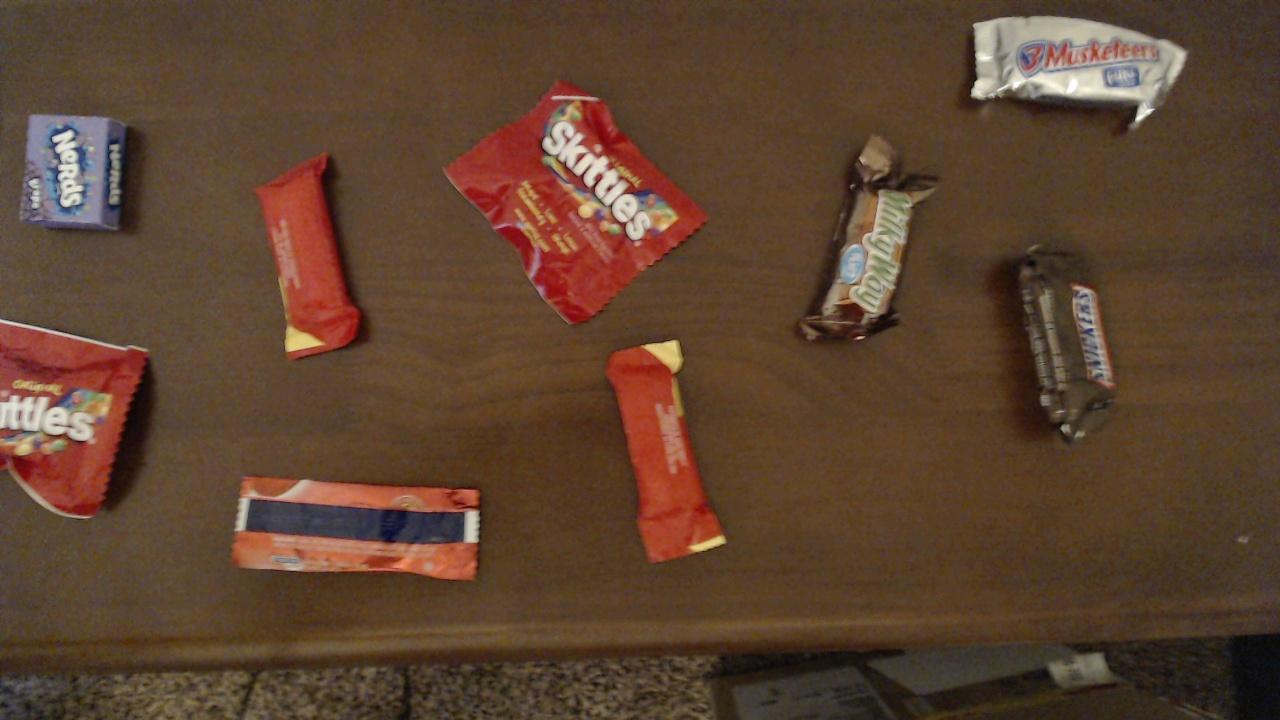Snickers: (1016, 245, 1119, 445)
airheads: (232, 476, 485, 578)
milky_way: (794, 134, 938, 345)
musketeers: (967, 13, 1191, 129)
nerds: (18, 115, 127, 234)
skittles: (444, 78, 710, 326), (2, 315, 150, 520)
starburst: (604, 338, 724, 563), (253, 152, 361, 361)
